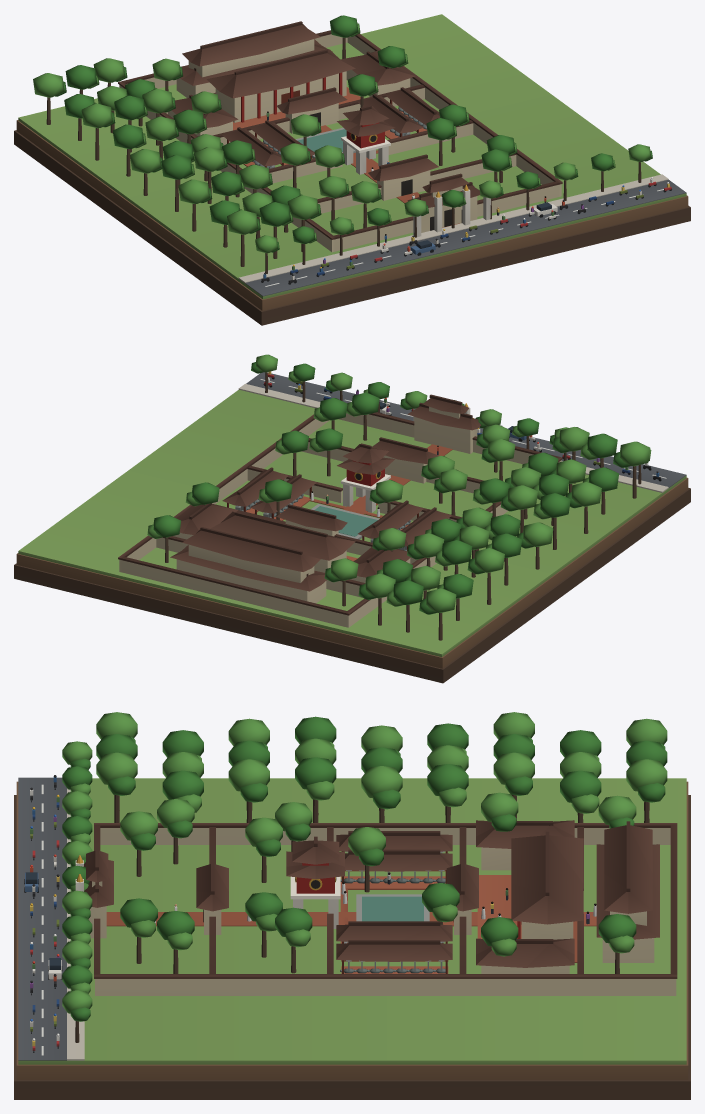
The model's file is van-mieu-quoc-tu-giam.glb.
The picture shows the model from 3 angles, top to bottom: view 1: azimuth 30°, elevation 25°; view 2: azimuth 150°, elevation 25°; view 3: azimuth 270°, elevation 25°; orthographic projection. The views are drawn at different scales.
Parts seen in each view (by area): view 1: VM_env_HC_bike_2E2E30; view 2: VM_env_HC_bike_2E2E30; view 3: VM_env_HC_bike_2E2E30.
Part boxes in pixels (x1,y1,x2,y2): VM_env_HC_bike_2E2E30: [14, 14, 690, 325]; VM_env_HC_bike_2E2E30: [14, 354, 690, 683]; VM_env_HC_bike_2E2E30: [14, 712, 690, 1099].
Size of the model in its own units: 92 by 17.5 by 92.
1 material, 1 textured.
